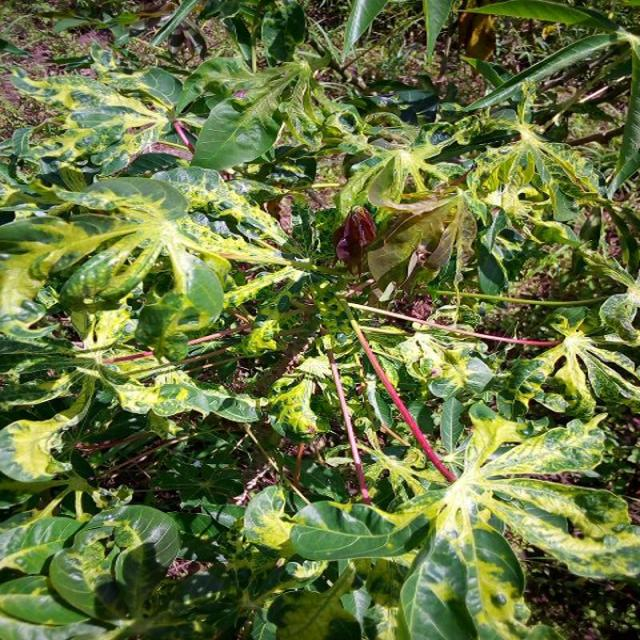cassava leaf: (0, 19, 638, 638), (288, 498, 428, 561)
